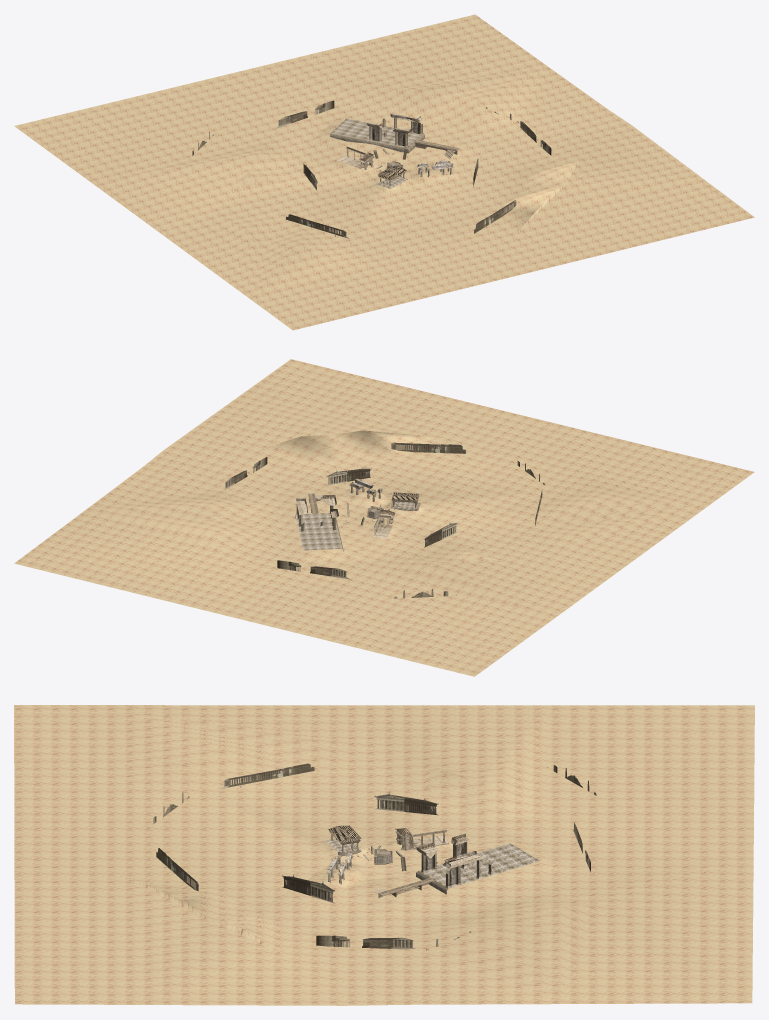
The model's file is Red Hot Shrine Day.fbx.
3 renders of one model, top to bottom at view 1: azimuth 30°, elevation 25°; view 2: azimuth 150°, elevation 25°; view 3: azimuth 270°, elevation 25°, orthographic. The views are drawn at different scales.
Parts seen in each view (by area): view 1: object_16, object_5, object_14, object_8; view 2: object_16, object_14, object_5, object_8; view 3: object_16, object_14, object_5, object_8, object_15, object_17, object_2, object_9.
Part boxes in pixels (x1,y1,x2,y2): object_16: [14, 14, 754, 330]; object_5: [330, 118, 424, 188]; object_14: [192, 100, 551, 233]; object_8: [337, 113, 451, 185]; object_16: [14, 359, 754, 676]; object_14: [224, 442, 544, 598]; object_5: [295, 501, 420, 551]; object_8: [296, 486, 419, 538]; object_16: [14, 705, 754, 1005]; object_14: [147, 765, 596, 950]; object_5: [327, 839, 539, 894]; object_8: [328, 828, 485, 875]; object_15: [220, 763, 314, 788]; object_17: [331, 834, 491, 887]; object_2: [328, 825, 448, 890]; object_9: [328, 832, 444, 884].
Bounding box in the file's own units: 174136 × 8971 × 181323.
